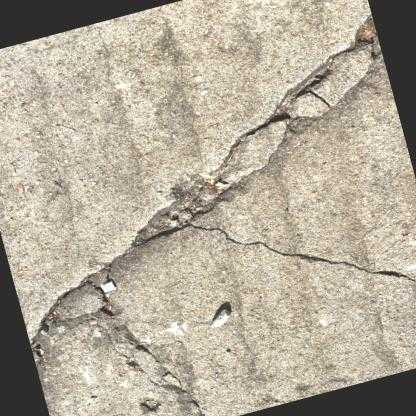crack: (216, 10, 374, 175), (124, 219, 416, 288), (126, 338, 213, 416)
